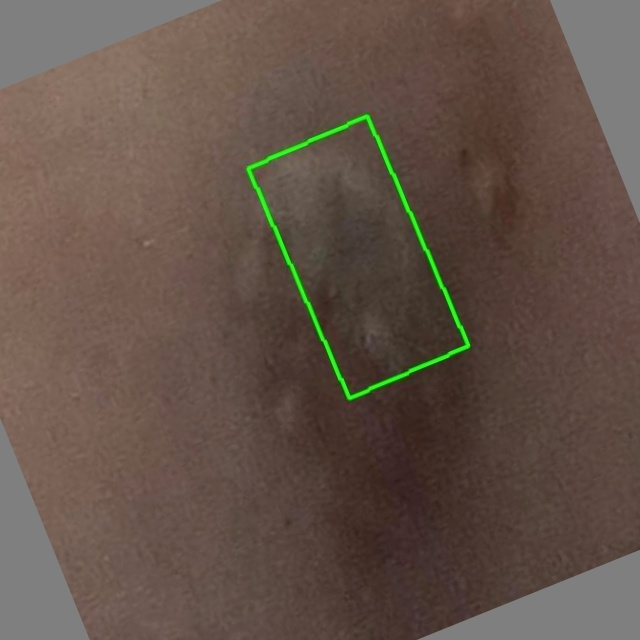Eczema: (247, 116, 468, 398)
